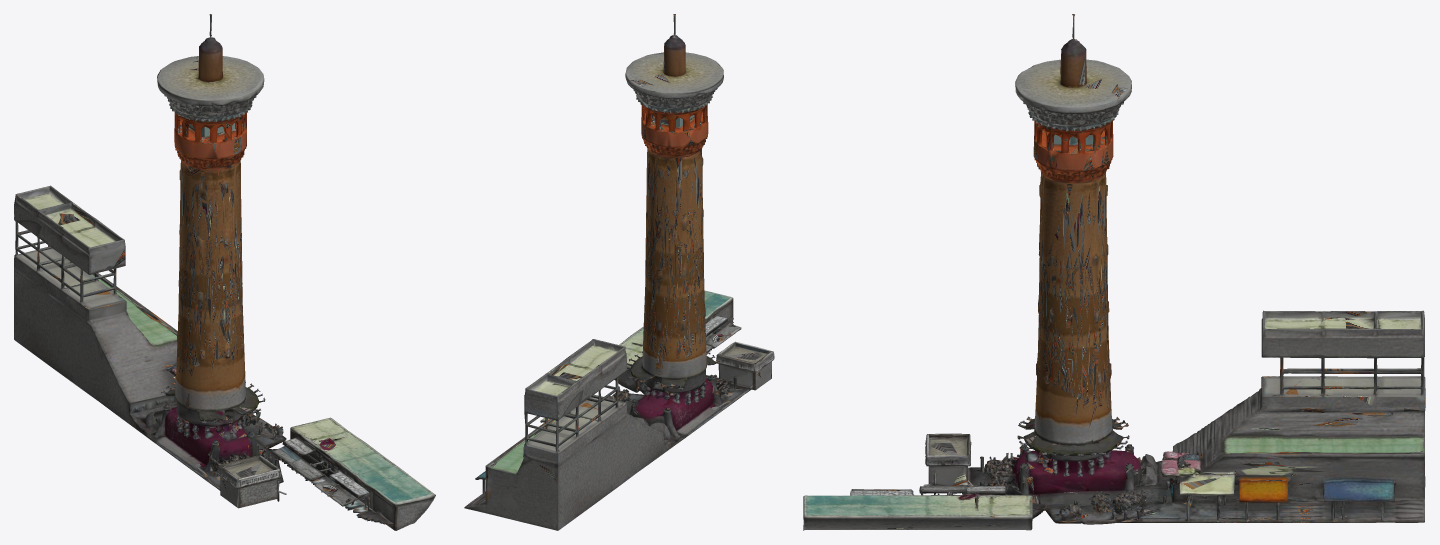
The model's file is urumqi-3.glb.
3 views of the same model, side by side, from view 1: azimuth 30°, elevation 25°; view 2: azimuth 150°, elevation 25°; view 3: azimuth 270°, elevation 25° (orthographic). The views are drawn at different scales.
Parts seen in each view (by area): view 1: Urumqi architecture 3; view 2: Urumqi architecture 3; view 3: Urumqi architecture 3.
Part boxes in pixels (x1,y1,x2,y2): Urumqi architecture 3: (14, 14, 435, 530); Urumqi architecture 3: (464, 14, 774, 530); Urumqi architecture 3: (803, 14, 1425, 530).
Bounding box in the file's own units: 0.2919 × 0.8326 × 0.9803.
1 material, 1 textured.
